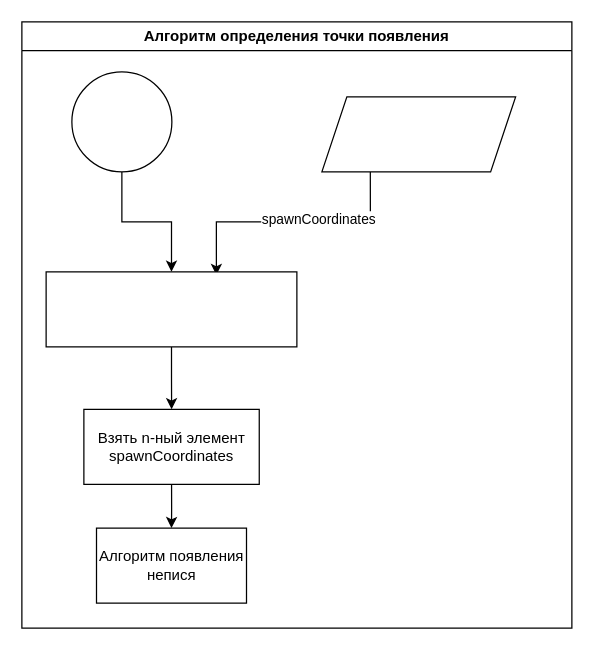
The diagram is 594 pixels wide and 650 high, and some of its shapes have lost their labels. Each missing label, with the centre of its shape:
Взять число n == случайное от 0 до spawnCoordinates.length: pixel 171 309
Мониторинг сцены: pixel 418 134
